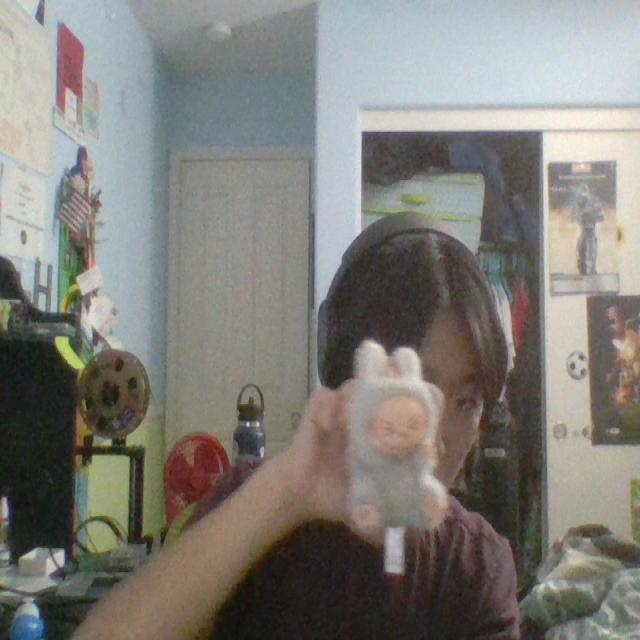labubu: (342, 339, 447, 573)
